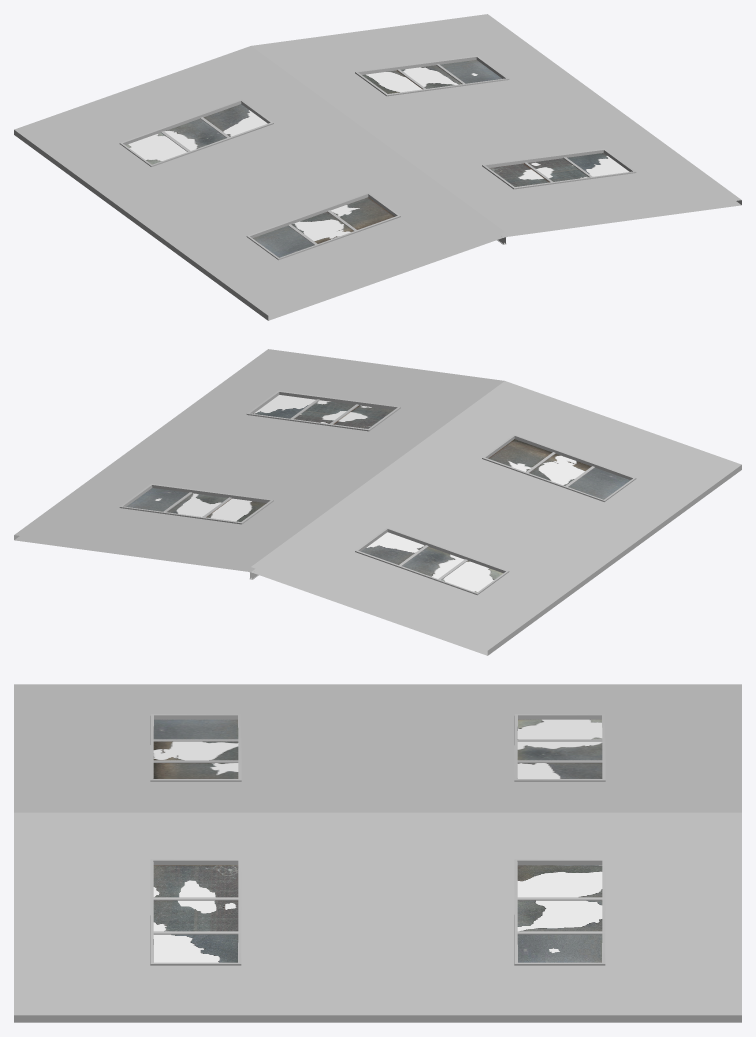
Rendered from Factory6Roof03.FBX.
3 views of the same model, one above another, from view 1: azimuth 30°, elevation 25°; view 2: azimuth 150°, elevation 25°; view 3: azimuth 270°, elevation 25° (orthographic). The views are drawn at different scales.
Visible parts, largest first — view 1: Factory6Roof03, Factory6Roof03Glass; view 2: Factory6Roof03, Factory6Roof03Glass; view 3: Factory6Roof03, Factory6Roof03Glass.
Part boxes in pixels (left/top/right/bottom): Factory6Roof03: left=14, top=14, right=741, bottom=320; Factory6Roof03Glass: left=125, top=60, right=629, bottom=257; Factory6Roof03: left=14, top=349, right=741, bottom=655; Factory6Roof03Glass: left=126, top=395, right=630, bottom=592; Factory6Roof03: left=14, top=684, right=741, bottom=1022; Factory6Roof03Glass: left=153, top=719, right=602, bottom=962.
Size of the model in its own units: 1721 by 108 by 1600.
